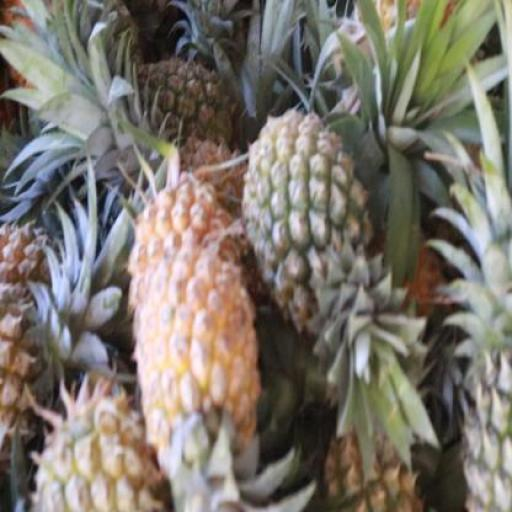------------------------------: (244, 114, 372, 312)
Pineapple - v8 v1: (138, 251, 251, 495)
